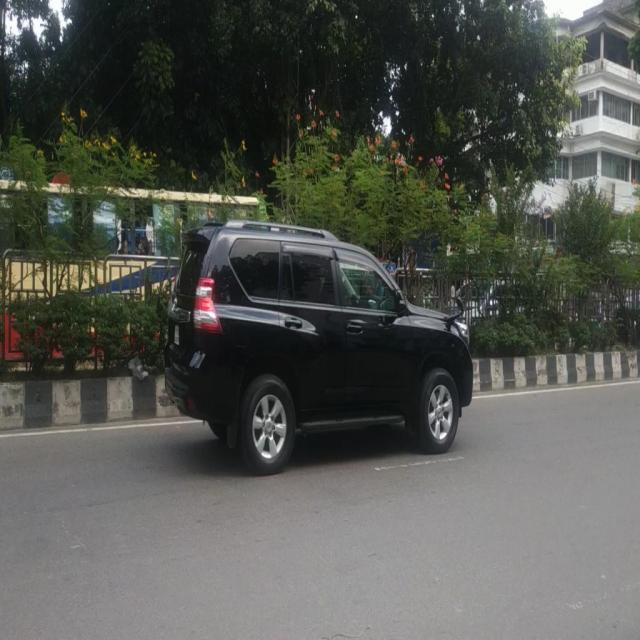black: (162, 224, 476, 462)
